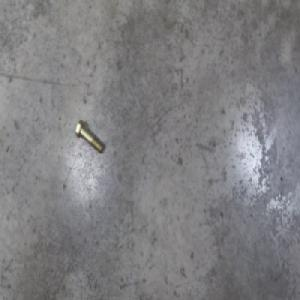Bolt: (74, 120, 103, 156)
